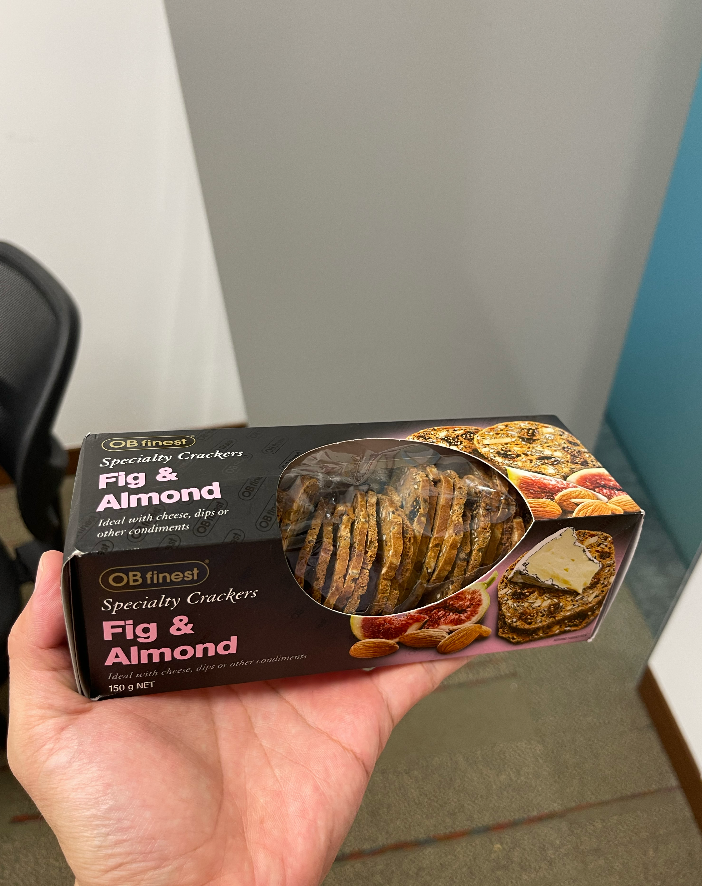crackers_100g-199g: (69, 436, 598, 652)
